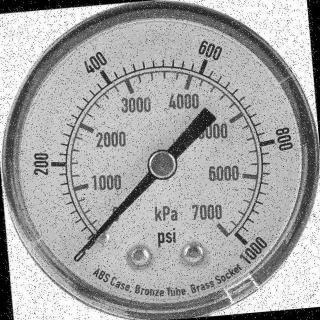gauge: (0, 0, 320, 320), (69, 229, 102, 267), (226, 222, 258, 260), (146, 148, 179, 180), (78, 241, 92, 255)
